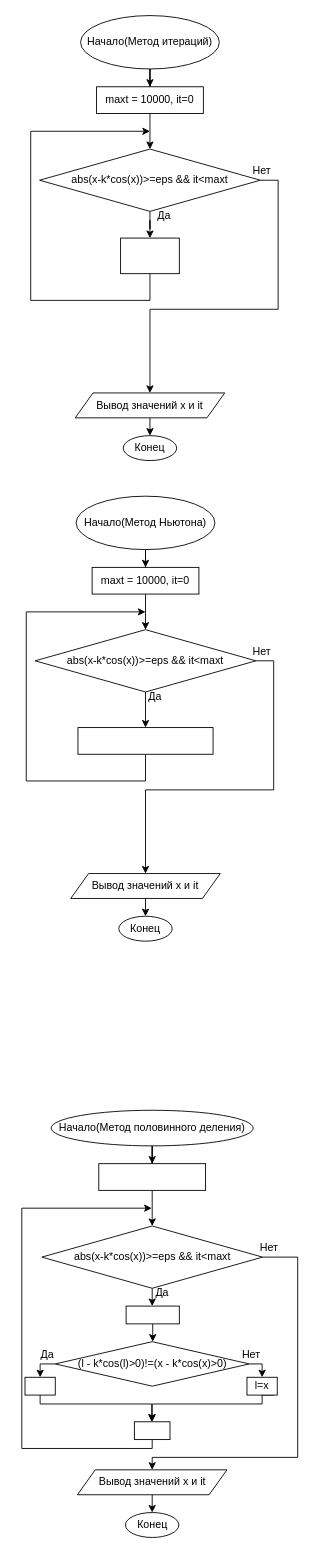
The diagram is 320 pixels wide and 1553 high, and some of its shapes have lost their labels. The box of each missing label's shape, as (x1, y1, x2, y2) in pixels:
it++: (134, 1421, 170, 1440)
maxt = 10000, it=0, l=-1.0, r=2.0: (98, 1163, 206, 1190)
r=x: (24, 1376, 55, 1395)
x-=(x-k*cos(x))/(1+k*sin(x)) it++: (77, 727, 213, 754)
x=(l+r)/2: (125, 1305, 179, 1324)
x=k*cos(x) it++: (120, 237, 179, 274)
